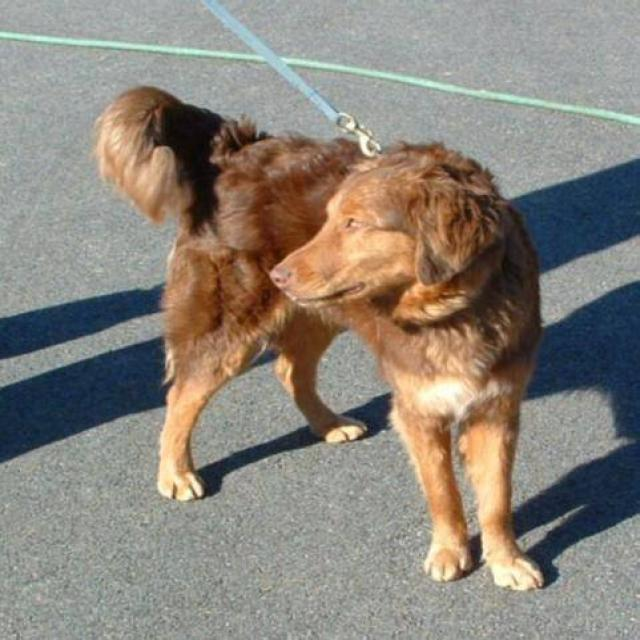dog: (267, 139, 547, 591), (93, 83, 375, 503)
